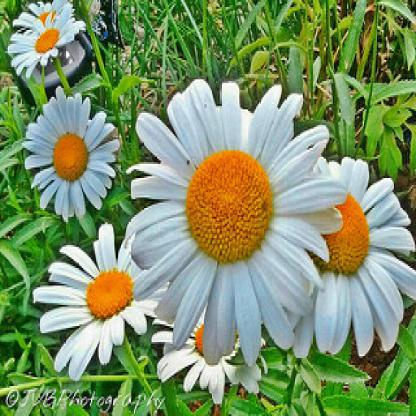ASTER: (5, 6, 409, 403)
